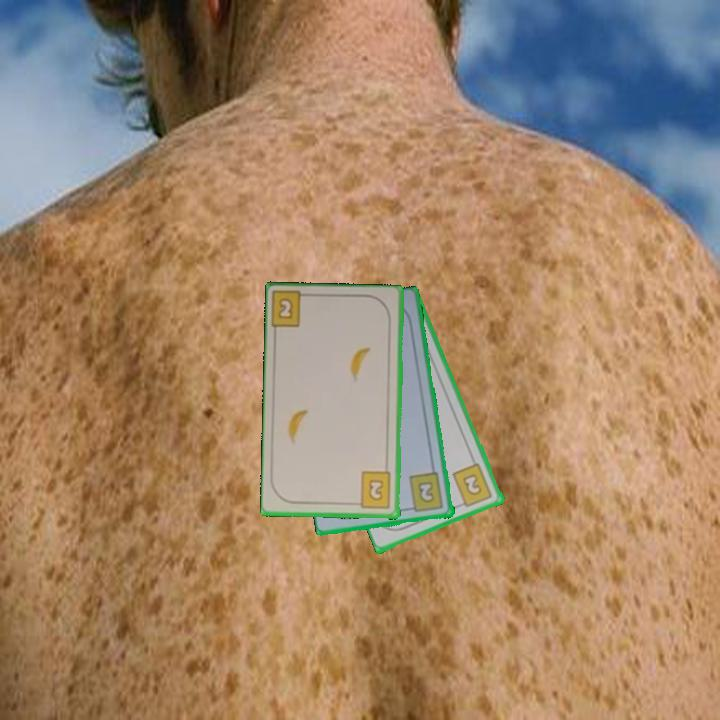2b: (449, 460, 495, 510), (404, 469, 446, 515), (270, 290, 315, 332), (351, 469, 394, 511)
